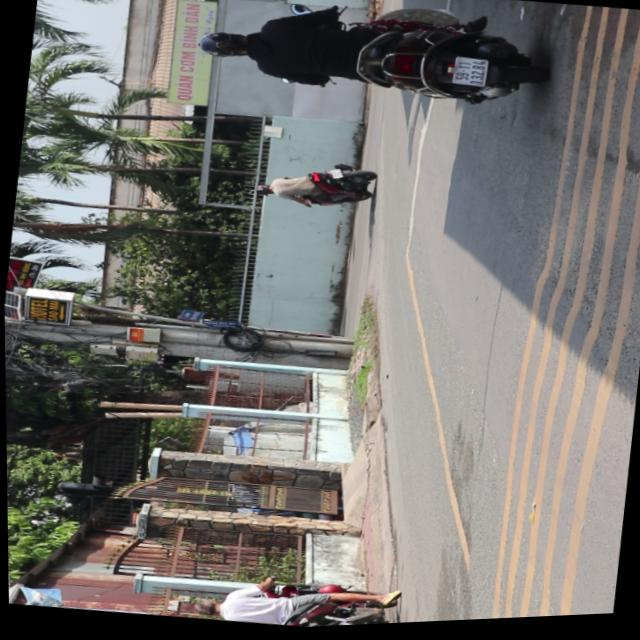helmet: (194, 27, 250, 63)
licenseplate: (188, 0, 549, 129), (180, 566, 403, 634)
motorcyclist: (186, 596, 218, 621)
nohelmet: (450, 59, 486, 90)
